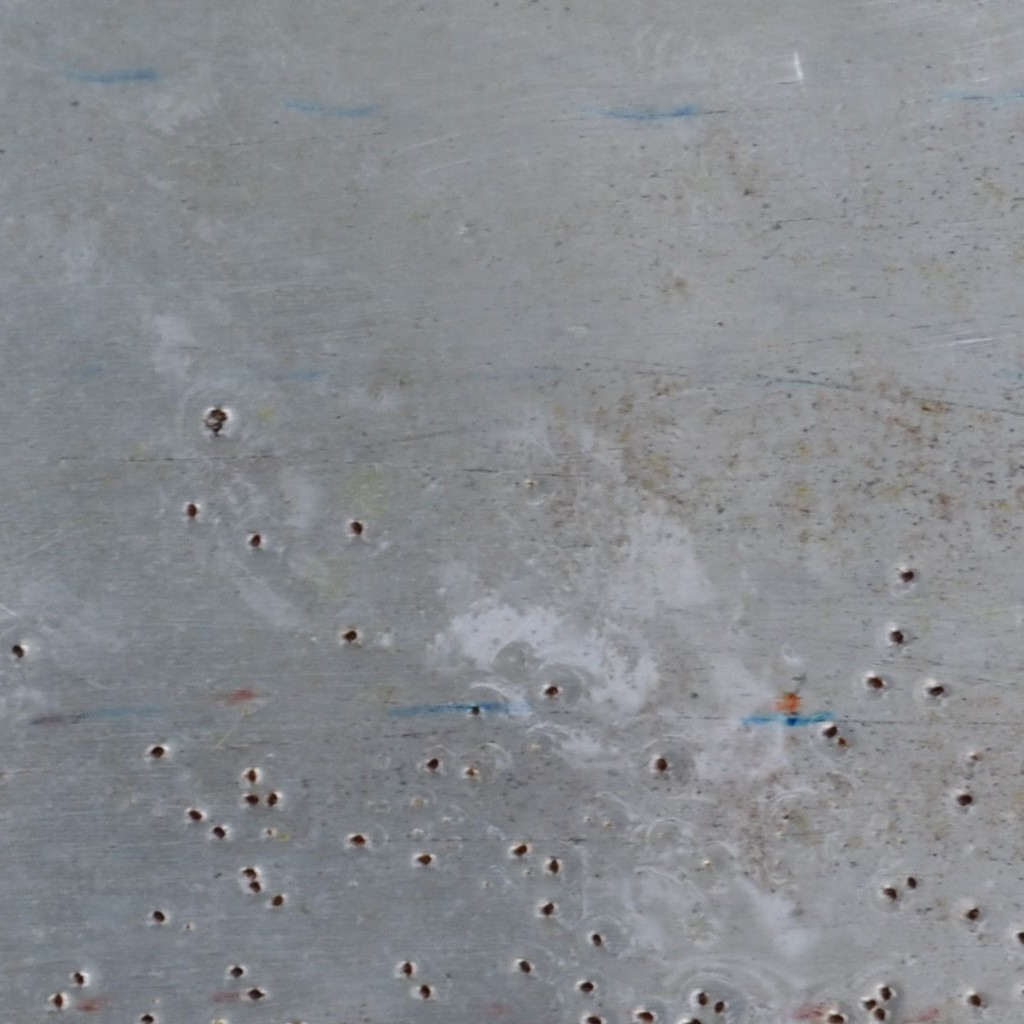varroa: (822, 721, 841, 741), (147, 743, 166, 761), (881, 884, 899, 903), (898, 565, 915, 585), (889, 627, 906, 647), (9, 642, 27, 660), (964, 905, 982, 923), (247, 985, 265, 1003), (956, 791, 975, 808), (634, 1009, 657, 1023), (928, 682, 946, 699), (50, 990, 66, 1009), (967, 991, 983, 1009), (866, 674, 885, 689), (418, 982, 432, 1002), (342, 629, 359, 645), (878, 983, 894, 1000), (510, 842, 527, 858), (349, 831, 366, 847), (227, 964, 244, 980), (71, 970, 87, 987), (243, 767, 258, 785), (860, 997, 878, 1012), (517, 957, 532, 975), (350, 519, 364, 538), (653, 755, 667, 774), (415, 852, 434, 866), (265, 789, 278, 809), (826, 1010, 846, 1023), (713, 997, 726, 1017), (211, 824, 228, 839), (546, 858, 561, 875), (270, 892, 285, 909), (695, 989, 709, 1007), (186, 808, 205, 821), (577, 979, 596, 992), (241, 864, 257, 879), (247, 531, 261, 548), (537, 902, 554, 916), (248, 880, 262, 897), (590, 929, 603, 947), (543, 683, 558, 698), (151, 908, 165, 924), (425, 756, 440, 770), (401, 960, 413, 977), (186, 502, 197, 520), (874, 1007, 887, 1022), (906, 874, 918, 889), (1016, 927, 1023, 950), (583, 1015, 603, 1023), (139, 1012, 155, 1022), (686, 1018, 702, 1023)
